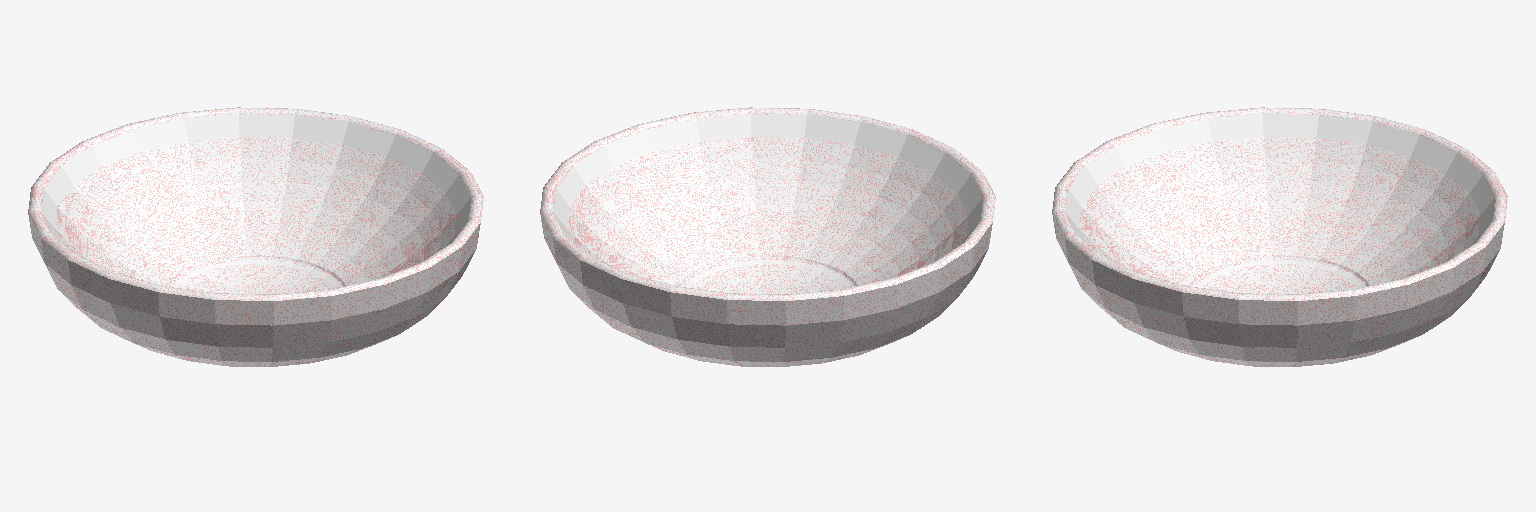
3 views of the same model, side by side, from view 1: azimuth 30°, elevation 25°; view 2: azimuth 150°, elevation 25°; view 3: azimuth 270°, elevation 25° (orthographic).
Visible parts, largest first — view 1: SketchUp_ID3.005, SketchUp.003_ID27.003, SketchUp.004_ID33.002, SketchUp.002_ID21.005, SketchUp.001_ID13.007; view 2: SketchUp_ID3.005, SketchUp.003_ID27.003, SketchUp.004_ID33.002, SketchUp.002_ID21.005, SketchUp.001_ID13.007; view 3: SketchUp_ID3.005, SketchUp.003_ID27.003, SketchUp.004_ID33.002, SketchUp.002_ID21.005, SketchUp.001_ID13.007.
Boxes of the visible parts, box(x1,y1,x2,y2) form: SketchUp_ID3.005: box(55, 137, 456, 286); SketchUp.003_ID27.003: box(28, 107, 483, 366); SketchUp.004_ID33.002: box(41, 114, 470, 243); SketchUp.002_ID21.005: box(179, 264, 333, 293); SketchUp.001_ID13.007: box(173, 260, 338, 287); SketchUp_ID3.005: box(567, 137, 968, 286); SketchUp.003_ID27.003: box(540, 107, 995, 366); SketchUp.004_ID33.002: box(553, 114, 982, 243); SketchUp.002_ID21.005: box(691, 264, 845, 293); SketchUp.001_ID13.007: box(685, 260, 850, 287); SketchUp_ID3.005: box(1079, 137, 1480, 286); SketchUp.003_ID27.003: box(1052, 107, 1507, 366); SketchUp.004_ID33.002: box(1065, 114, 1494, 243); SketchUp.002_ID21.005: box(1203, 264, 1357, 293); SketchUp.001_ID13.007: box(1197, 260, 1362, 287).
Size of the model in its own units: 0.423 by 0.1112 by 0.423.